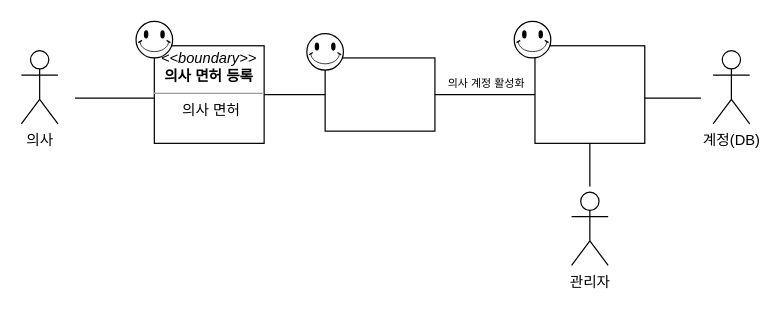
The diagram is 781 pixels wide and 312 high, and some of its shapes have lost their labels. Each missing label, with the centre of its shape:
"<<boundary>> 의사 면허 확인 의사 면허 진위 확인 정보" belongs at (589,94).
"<<control>> Controller" belongs at (379,94).
